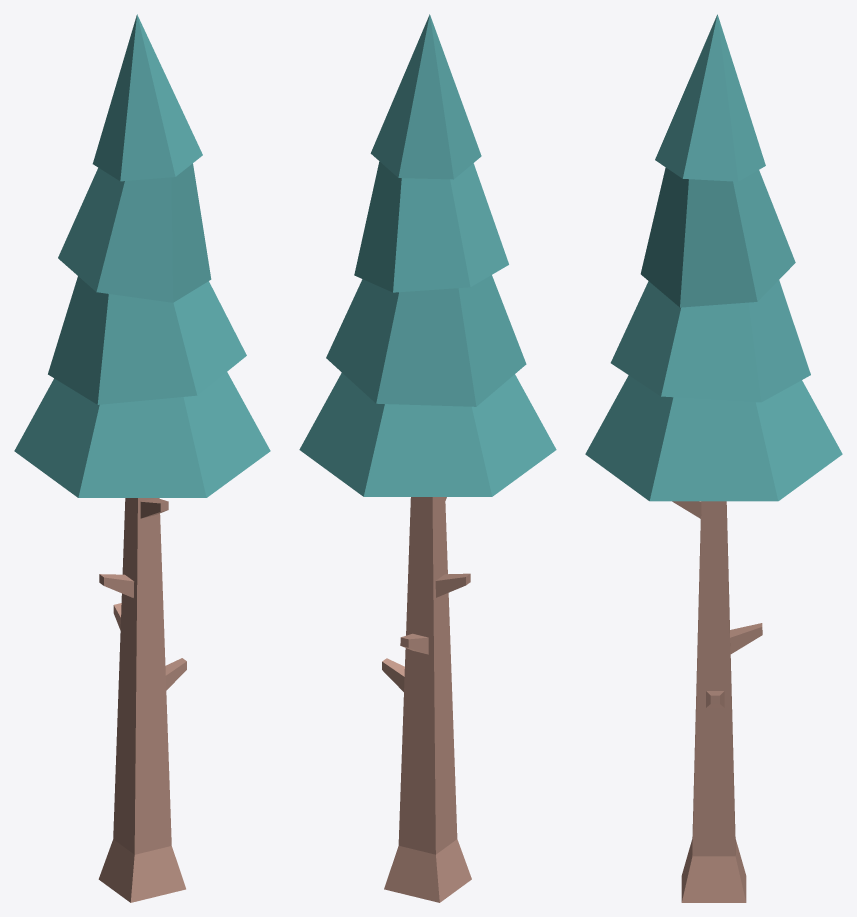
Rendered from tree_pineTallD_detailed.glb.
The picture shows the model from 3 angles, left to right: view 1: azimuth 30°, elevation 25°; view 2: azimuth 150°, elevation 25°; view 3: azimuth 270°, elevation 25°; orthographic projection.
Parts seen in each view (by area): view 1: tree_pineTallD_detailed; view 2: tree_pineTallD_detailed; view 3: tree_pineTallD_detailed.
Boxes of the visible parts, x1=… form: tree_pineTallD_detailed: x1=14, y1=14, x2=270, y2=902; tree_pineTallD_detailed: x1=299, y1=14, x2=556, y2=902; tree_pineTallD_detailed: x1=585, y1=14, x2=842, y2=902.
Size of the model in its own units: 0.4804 by 2.08 by 0.5547.
